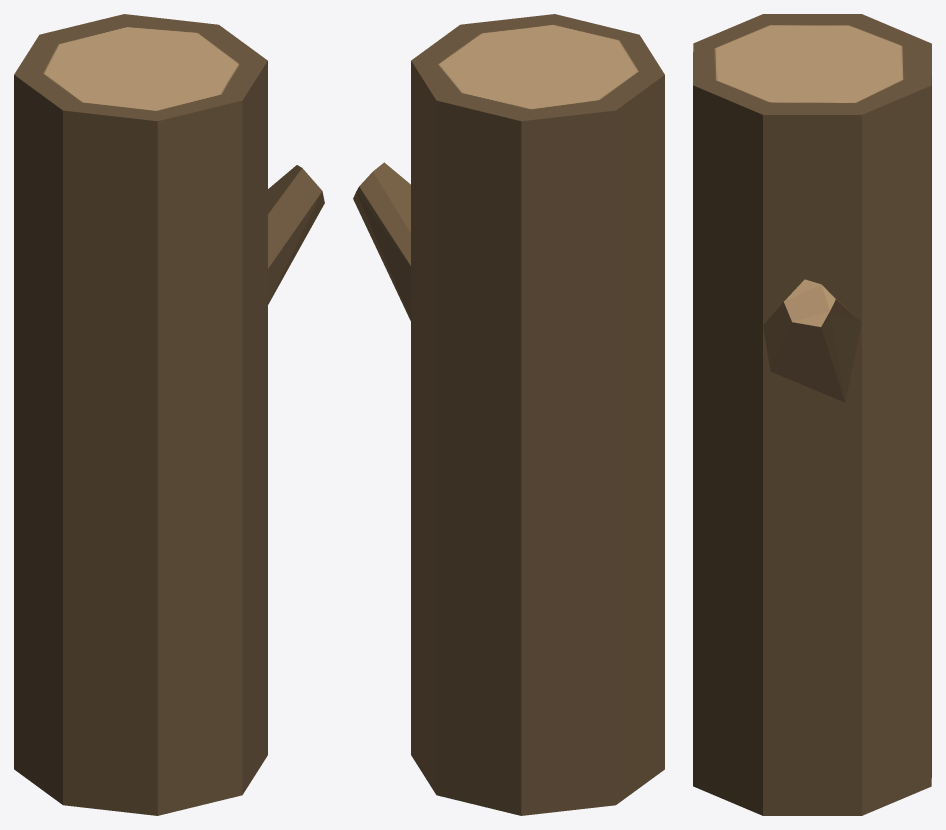
The model's file is log_03.FBX.
The picture shows the model from 3 angles, left to right: view 1: azimuth 30°, elevation 25°; view 2: azimuth 150°, elevation 25°; view 3: azimuth 270°, elevation 25°; orthographic projection.
Parts seen in each view (by area): view 1: log_03; view 2: log_03; view 3: log_03.
Boxes of the visible parts, box(x1,y1,x2,y2) form: log_03: box(14, 14, 324, 815); log_03: box(353, 14, 664, 815); log_03: box(693, 14, 931, 815).
Bounding box in the file's own units: 15.13 × 35.45 × 10.94.
Materials: 1 (1 with a texture image).
